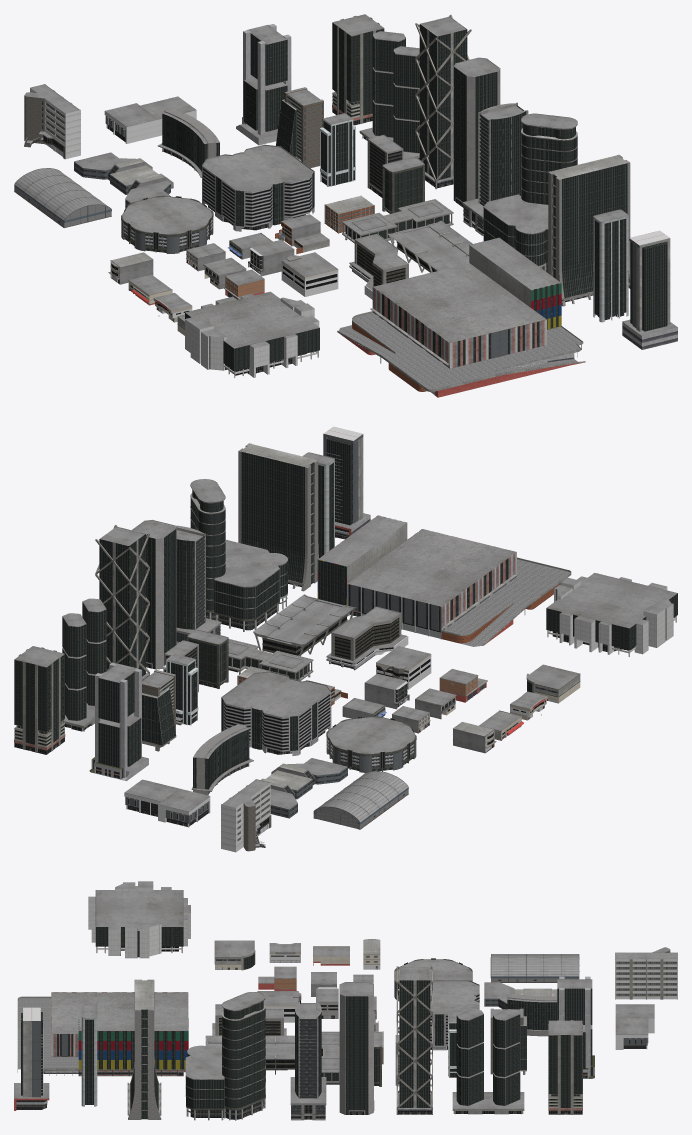
Rendered from BuildingB.fbx.
3 renders of one model, top to bottom at view 1: azimuth 30°, elevation 25°; view 2: azimuth 150°, elevation 25°; view 3: azimuth 270°, elevation 25°, orthographic. The views are drawn at different scales.
Parts seen in each view (by area): view 1: BuildingB_19, BuildingB_20, BuildingB_09, BuildingB_10, BuildingB_22, BuildingB_23, BuildingB_12, BuildingB_06, BuildingB_02, BuildingB_14, BuildingB_08, BuildingB_18 (+25 smaller); view 2: BuildingB_19, BuildingB_09, BuildingB_20, BuildingB_22, BuildingB_10, BuildingB_23, BuildingB_06, BuildingB_, BuildingB_12, BuildingB_08, BuildingB_18, BuildingB_13 (+23 smaller); view 3: BuildingB_19, BuildingB_22, BuildingB_20, BuildingB_12, BuildingB_23, BuildingB_08, BuildingB_14, BuildingB_09, BuildingB_, BuildingB_37, BuildingB_02, BuildingB_34 (+21 smaller).
Boxes of the visible parts, x1=… form: BuildingB_19: x1=337, y1=237, x2=585, y2=397; BuildingB_20: x1=185, y1=291, x2=319, y2=377; BuildingB_09: x1=547, y1=154, x2=630, y2=306; BuildingB_10: x1=202, y1=144, x2=314, y2=231; BuildingB_22: x1=483, y1=113, x2=577, y2=272; BuildingB_23: x1=415, y1=14, x2=471, y2=189; BuildingB_12: x1=359, y1=31, x2=419, y2=159; BuildingB_06: x1=236, y1=24, x2=291, y2=145; BuildingB_02: x1=622, y1=230, x2=677, y2=349; BuildingB_14: x1=462, y1=102, x2=528, y2=235; BuildingB_08: x1=453, y1=57, x2=500, y2=207; BuildingB_18: x1=121, y1=195, x2=213, y2=253; BuildingB_19: x1=317, y1=515, x2=571, y2=646; BuildingB_09: x1=238, y1=443, x2=318, y2=591; BuildingB_20: x1=546, y1=573, x2=677, y2=656; BuildingB_22: x1=190, y1=479, x2=287, y2=631; BuildingB_10: x1=221, y1=671, x2=331, y2=755; BuildingB_23: x1=95, y1=525, x2=149, y2=680; BuildingB_06: x1=89, y1=662, x2=148, y2=780; BuildingB_: x1=14, y1=646, x2=65, y2=754; BuildingB_12: x1=62, y1=598, x2=106, y2=731; BuildingB_08: x1=131, y1=519, x2=176, y2=669; BuildingB_18: x1=326, y1=716, x2=416, y2=772; BuildingB_13: x1=253, y1=594, x2=356, y2=656; BuildingB_19: x1=17, y1=992, x2=188, y2=1076; BuildingB_22: x1=185, y1=992, x2=265, y2=1120; BuildingB_20: x1=88, y1=881, x2=190, y2=958; BuildingB_12: x1=452, y1=1009, x2=524, y2=1114; BuildingB_23: x1=396, y1=966, x2=432, y2=1114; BuildingB_08: x1=339, y1=982, x2=374, y2=1114; BuildingB_14: x1=290, y1=1001, x2=326, y2=1120; BuildingB_09: x1=127, y1=979, x2=161, y2=1119; BuildingB_: x1=548, y1=1020, x2=582, y2=1114; BuildingB_37: x1=615, y1=947, x2=677, y2=999; BuildingB_02: x1=14, y1=1007, x2=49, y2=1110; BuildingB_34: x1=490, y1=954, x2=579, y2=982.
Bounding box in the file's own units: 322 × 108 × 485.
Materials: 6 (4 with a texture image).
